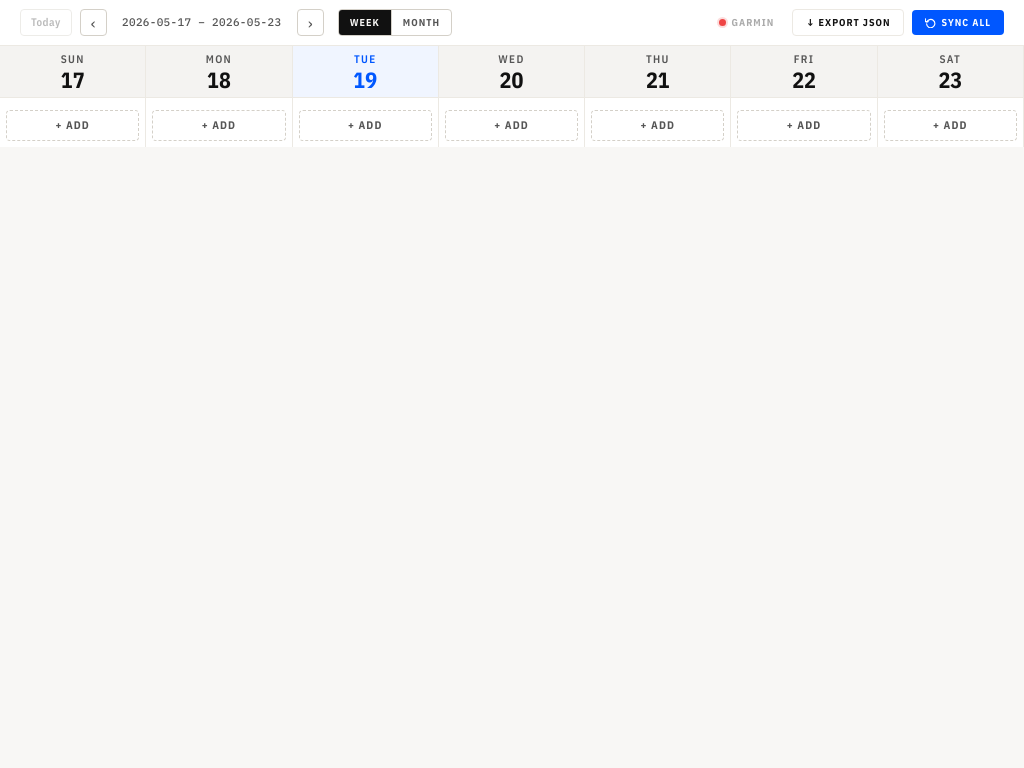
Test: test_click_day_opens_picker › click empty day → picker modal opens
Click the button with aria-label "add workout".
click(73, 125)  # box 6,110 -> 139,140
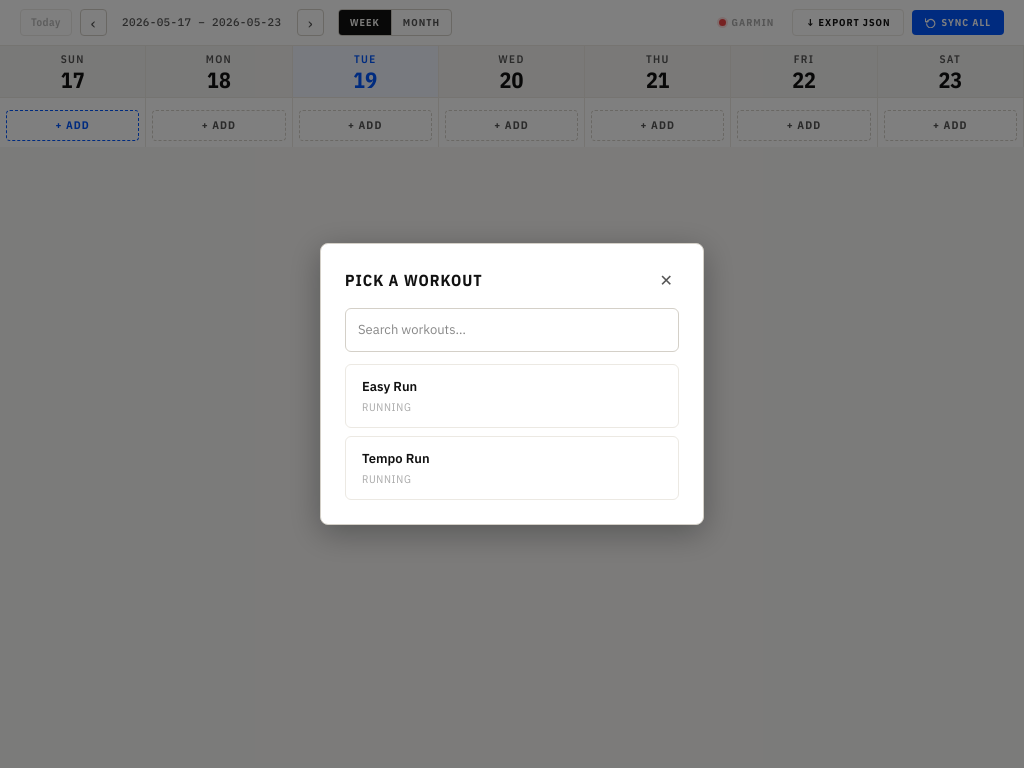
Expected: the dialog "Pick a workout ✕ Easy Run running Tempo Run running" is shown, 320,243 -> 704,525
